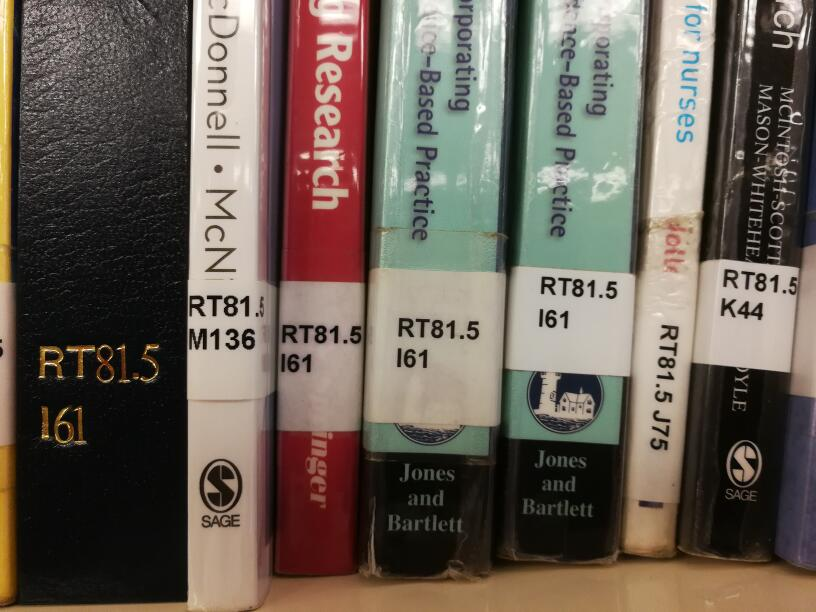booklabel: (34, 337, 166, 450), (534, 273, 621, 331), (393, 314, 481, 370), (718, 265, 801, 322), (646, 322, 682, 453), (278, 321, 362, 376), (184, 291, 257, 352)
